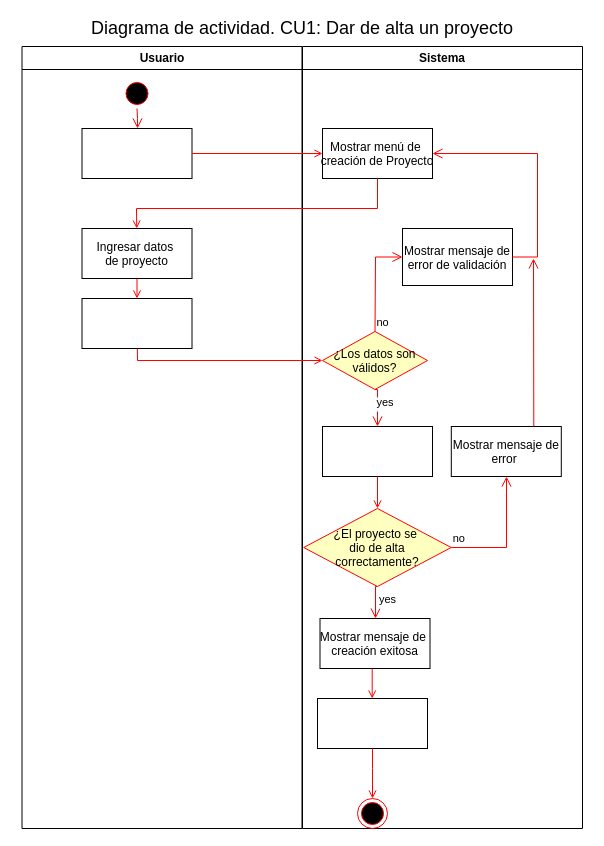
This 604x846 diagram has some shape labels left out. Here are the shapes that lost their labels. From the top down, the box of each, then its label:
(81, 128, 192, 178): Seleccionar "Nuevo proyecto"
(81, 298, 192, 348): Enviar datos ingresado
(322, 426, 432, 476): Crear el proyecto en la base de datos
(316, 698, 428, 748): Redireccionar a interfaz para administrar proyecto
